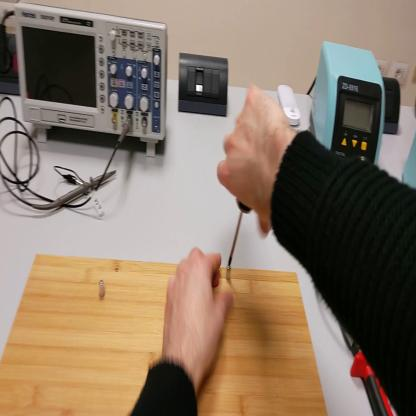hand: (218, 86, 296, 231), (162, 249, 233, 380)
oscilloscope: (15, 5, 169, 161)
oscilloscope probe tip: (43, 172, 116, 215)
pliers: (341, 322, 395, 416)
screwdriver-: (231, 196, 252, 266)
socket: (1, 32, 22, 98), (382, 75, 402, 136)
welder base: (402, 136, 416, 188)
welder station: (310, 43, 387, 167)
working area: (1, 255, 328, 416)
